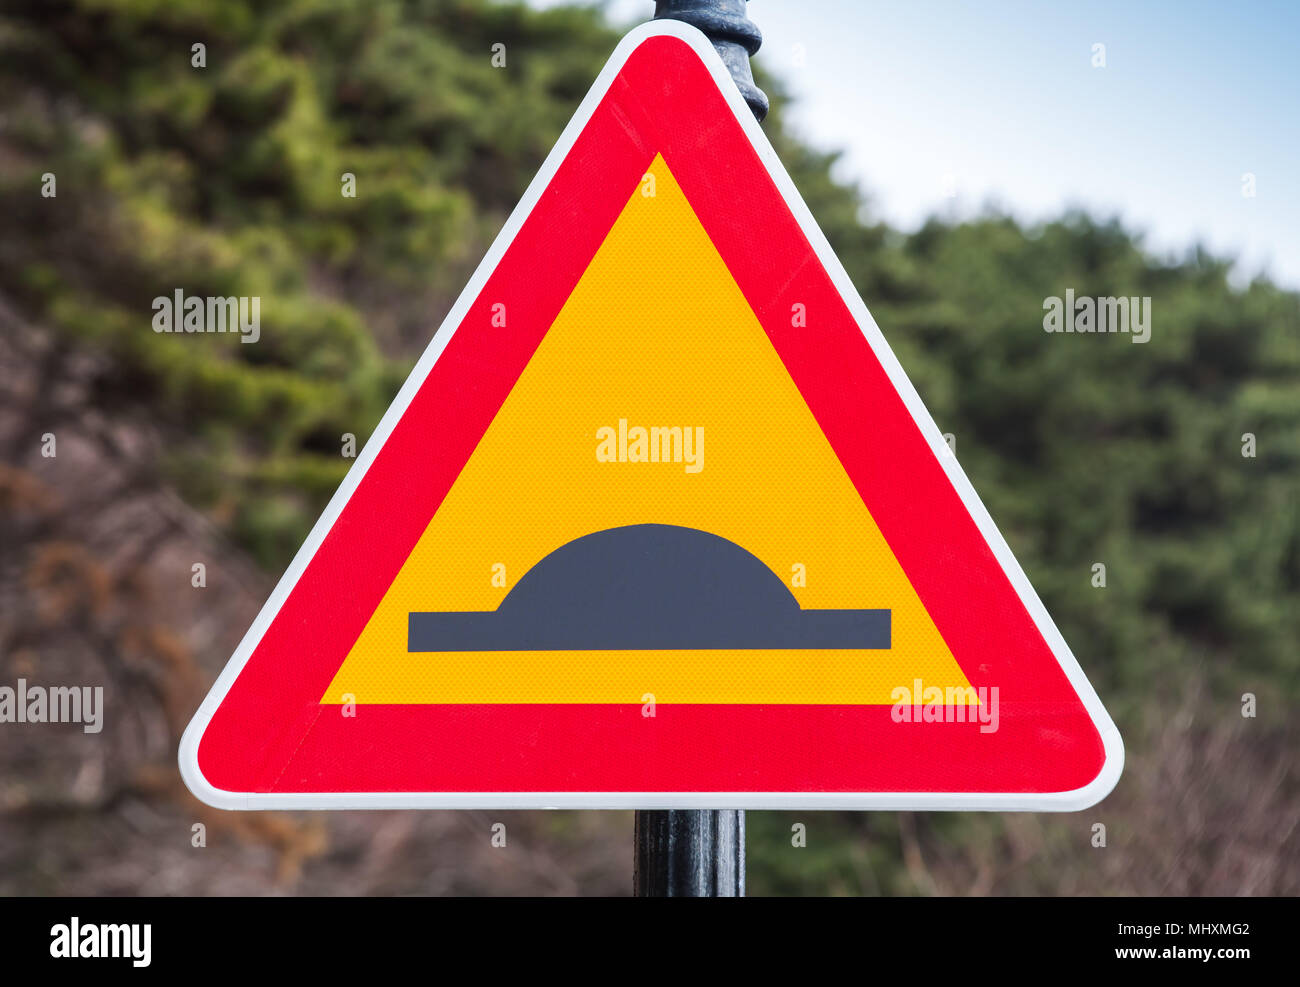speed-breaker: (302, 149, 1041, 779)
